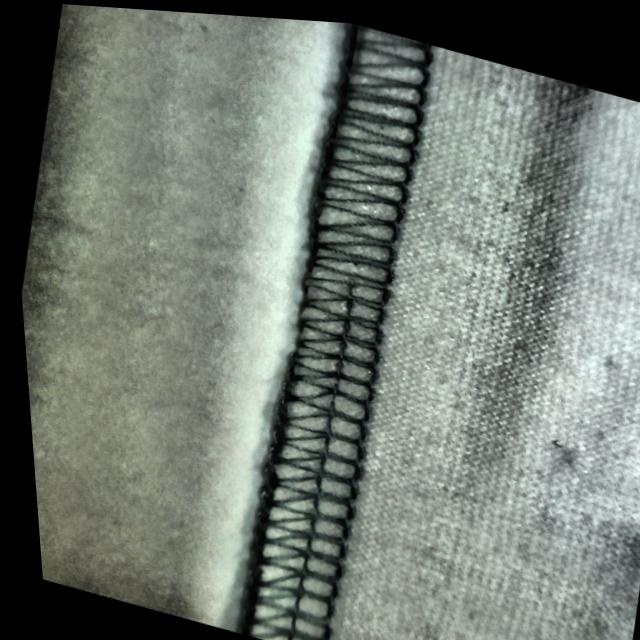Stitch: (225, 62, 474, 500)
